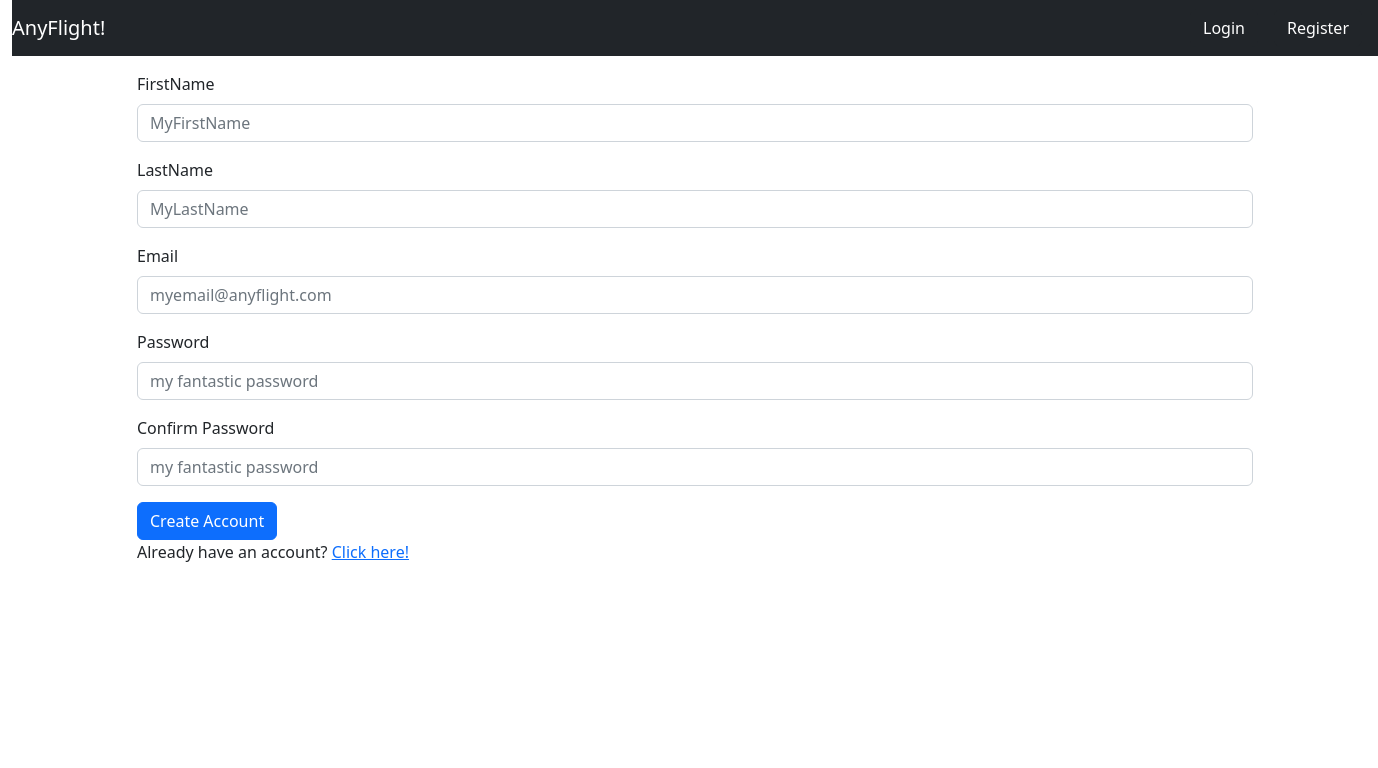
Test: Register Page › Checks if passwords are equal
Type "Hendrik" into the field named "firstName" at (695, 123), box [137,104,1253,142]
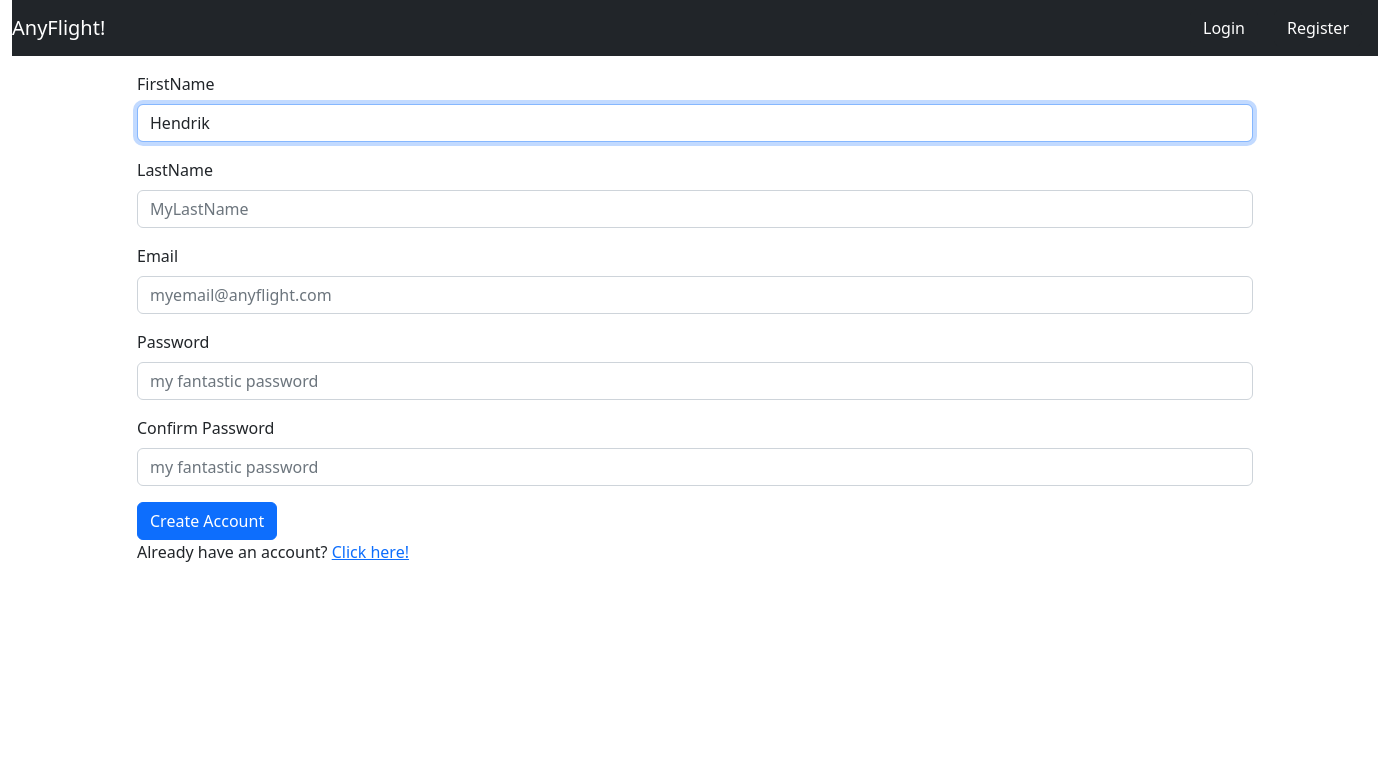
Type "JanKlaas" into the field named "lastName" at (695, 209), box [137,190,1253,228]
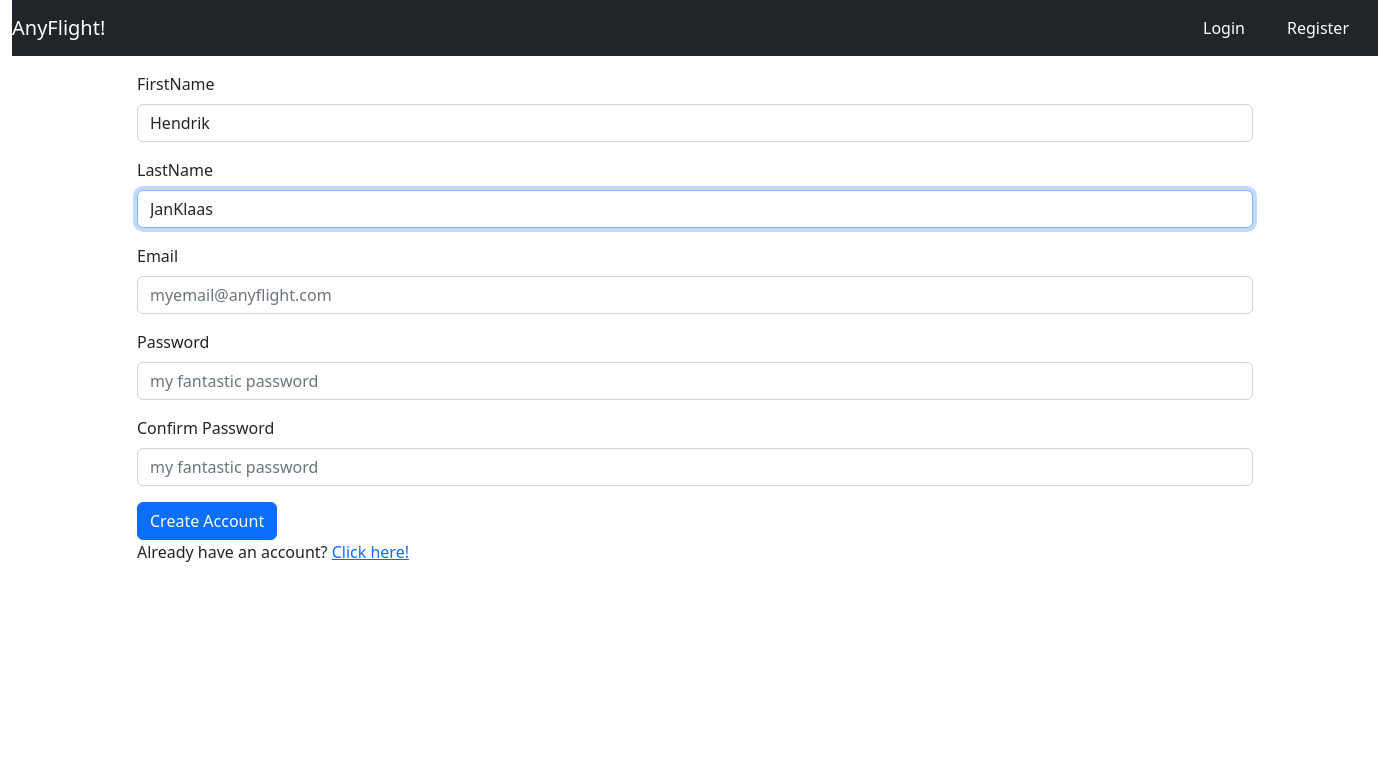
Type "mymail@gmail.com" into the field named "mailInput" at (695, 295), box [137,276,1253,314]
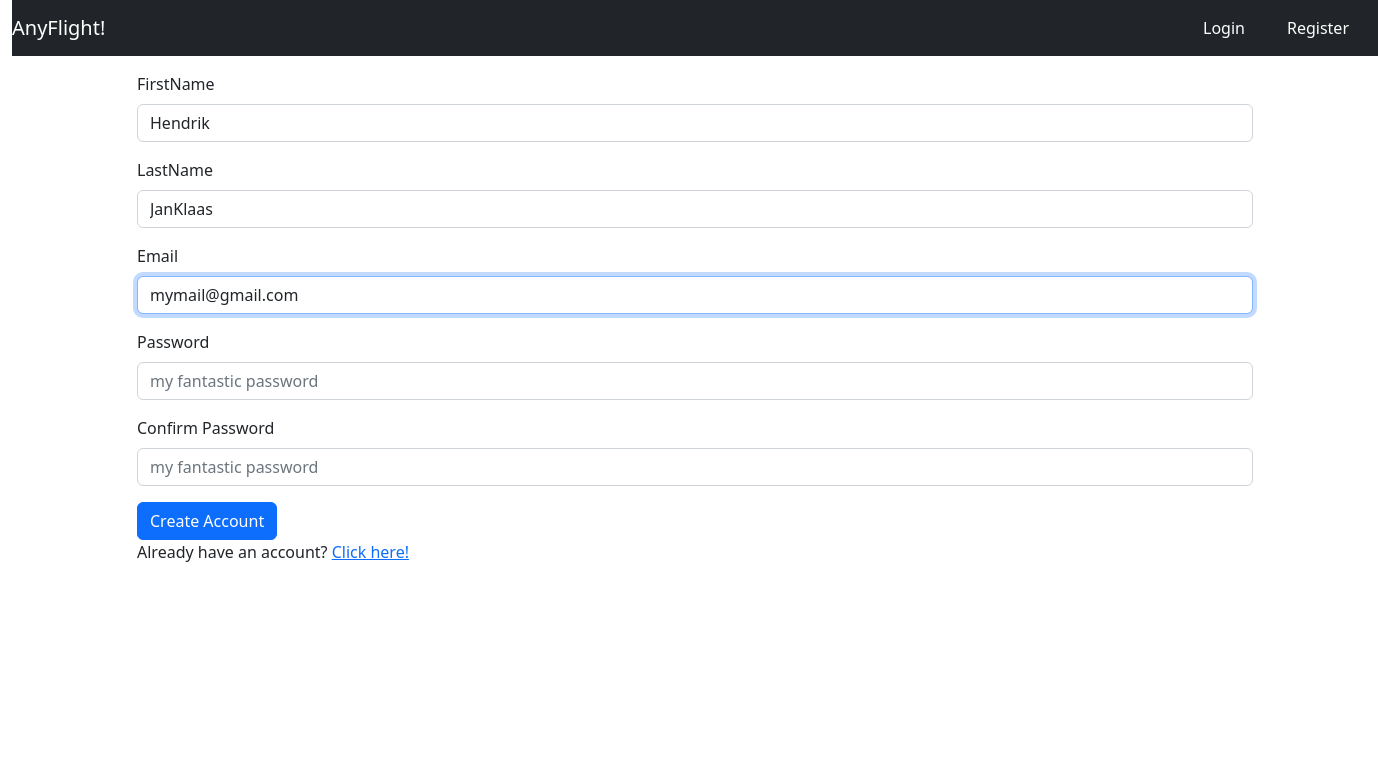
Type "Password" into the password field named "passwordInput" at (695, 381), box [137,362,1253,400]
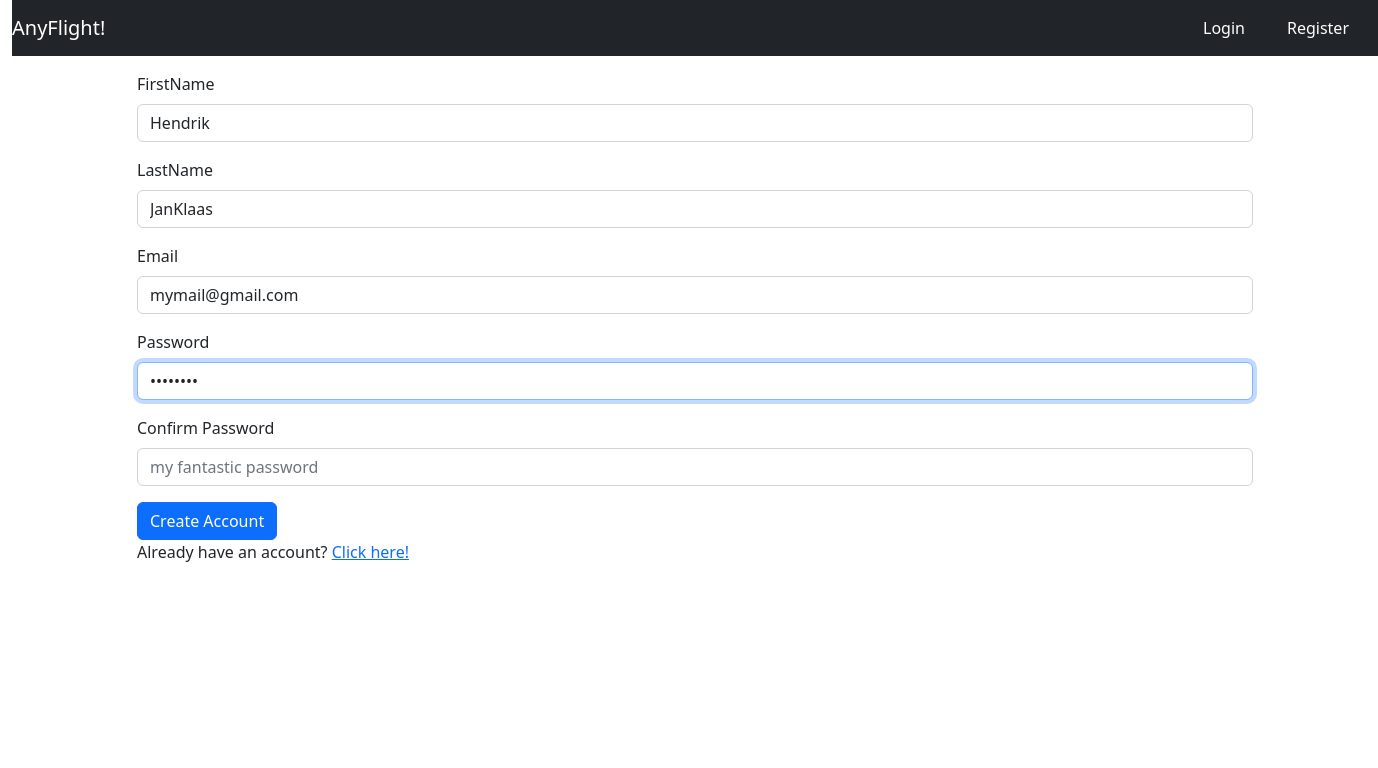
Type "password" into the password field named "confirmPasswordInput" at (695, 467), box [137,448,1253,486]
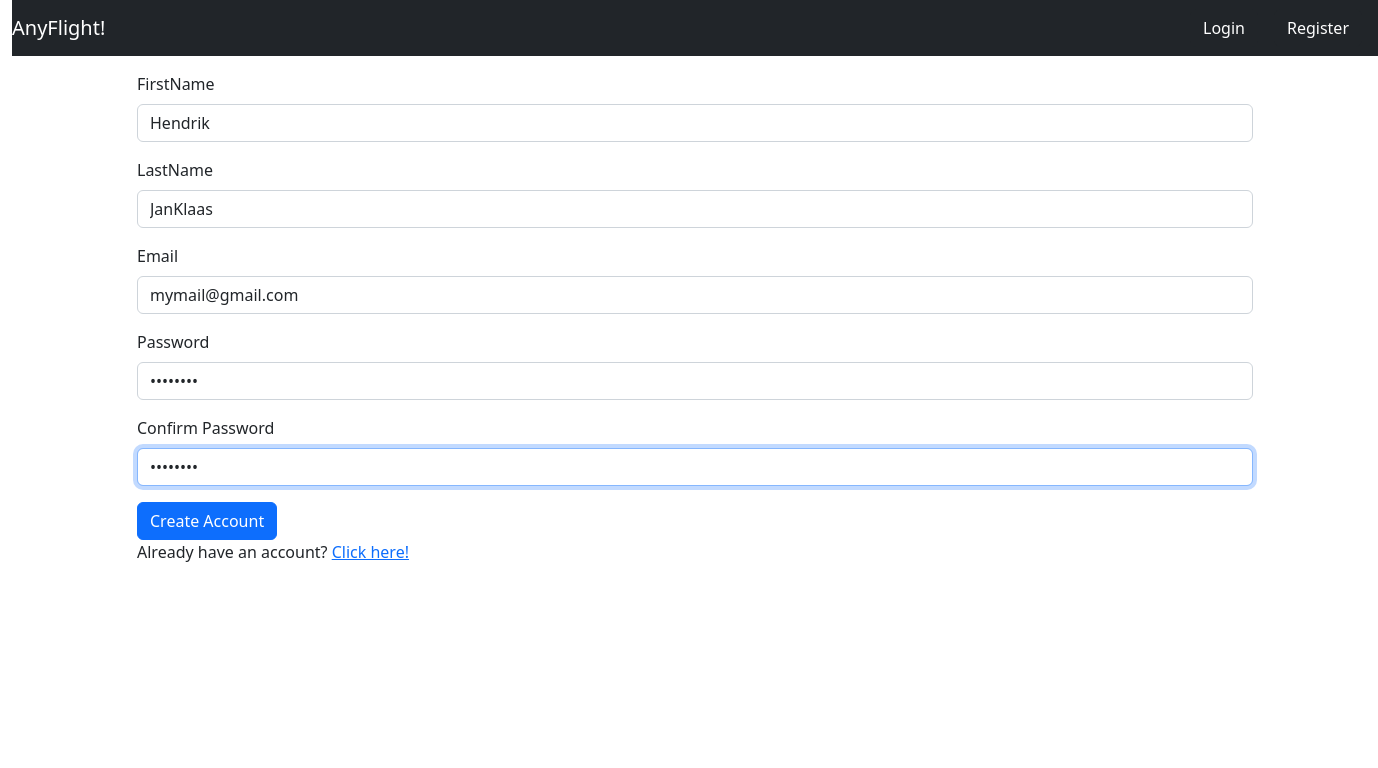
Click the button with id "submit" at (207, 521), box [137,502,277,540]
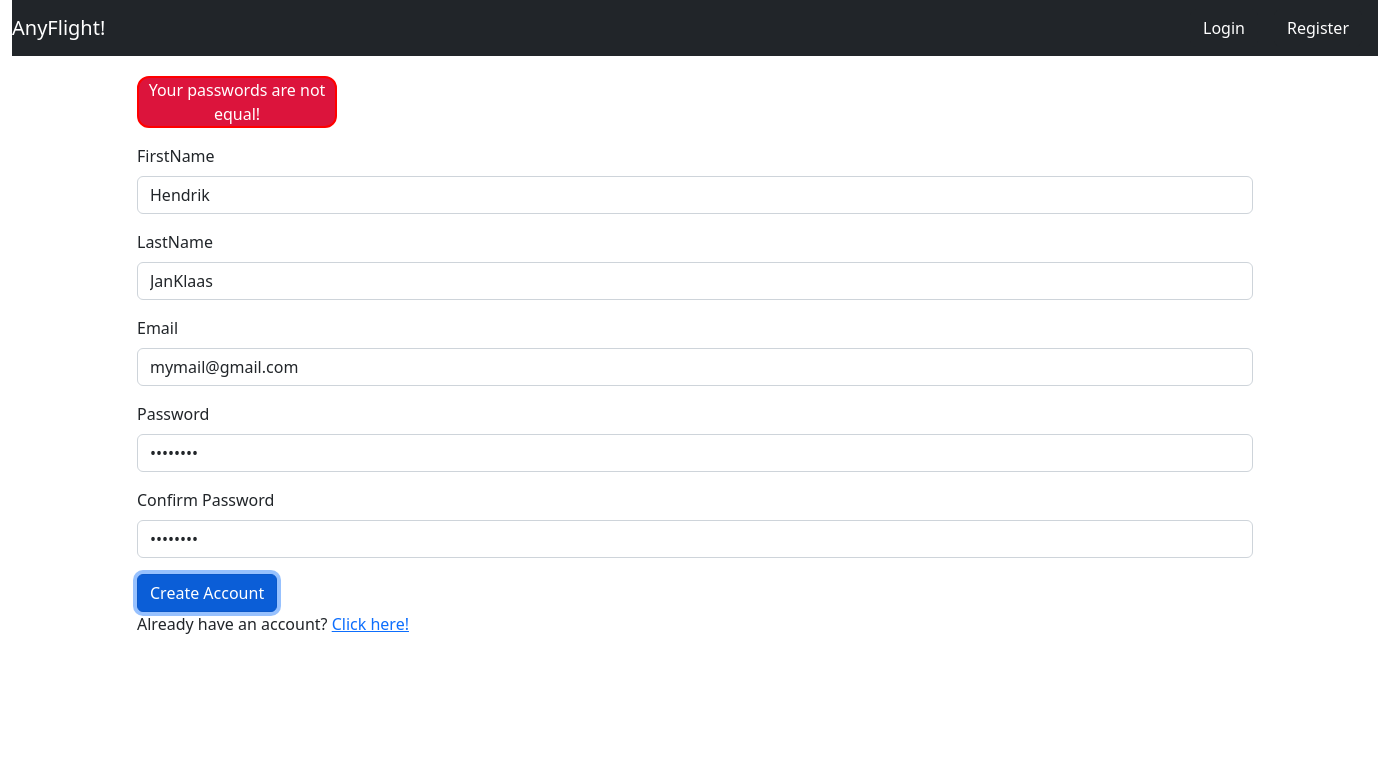
Check: the text with id "error" reads "Your passwords are not equal!", box [149,79,326,125]
